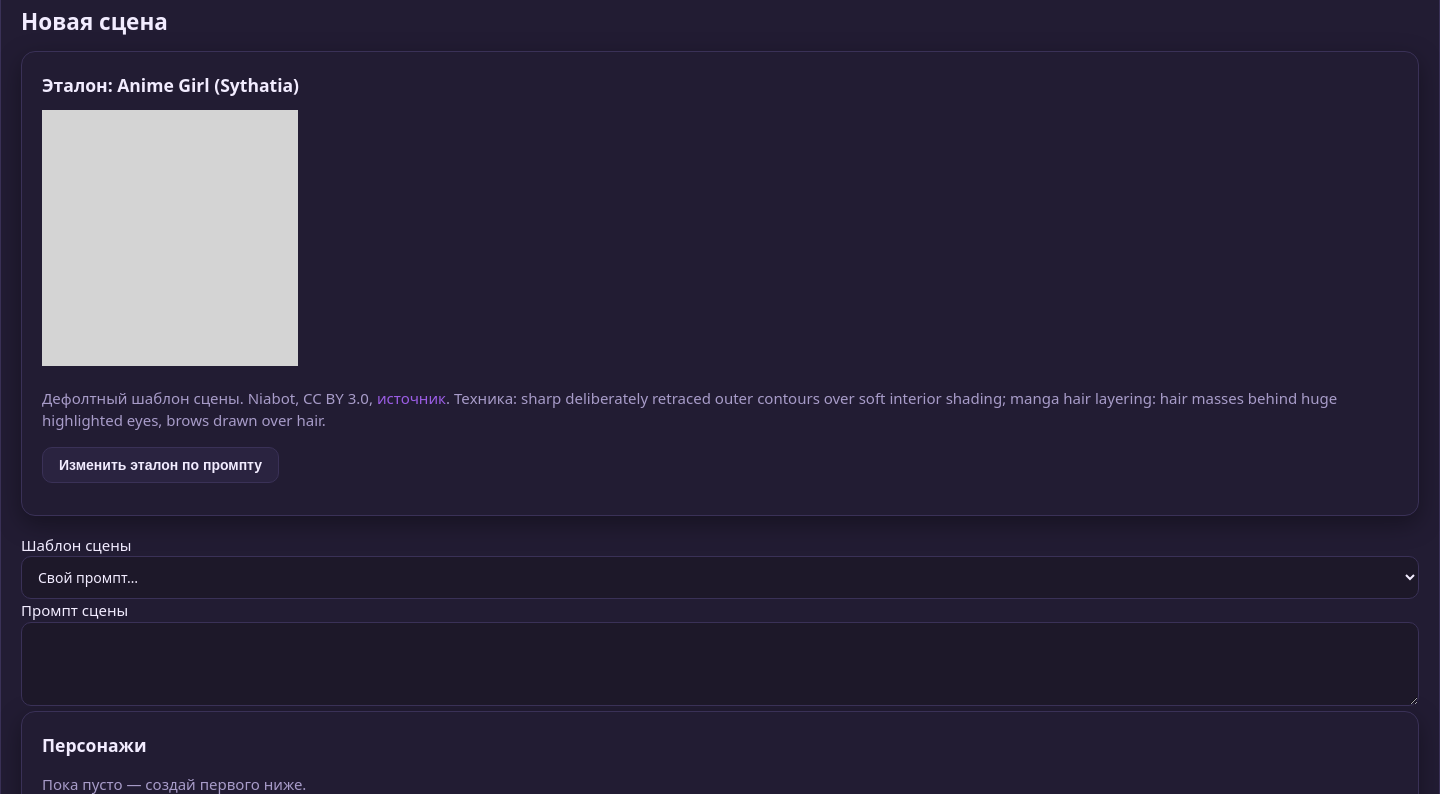
Test: SceneComposer (cast + missing proposals + paused queue) › remix uses the reference look and marks the scene basedOn (default template)
What coordinates should you click on to do the following:
click the button "Изменить эталон по промпту"
I would click on:
 (161, 465)
Its box is [42,447,279,483].
(page scrolled)
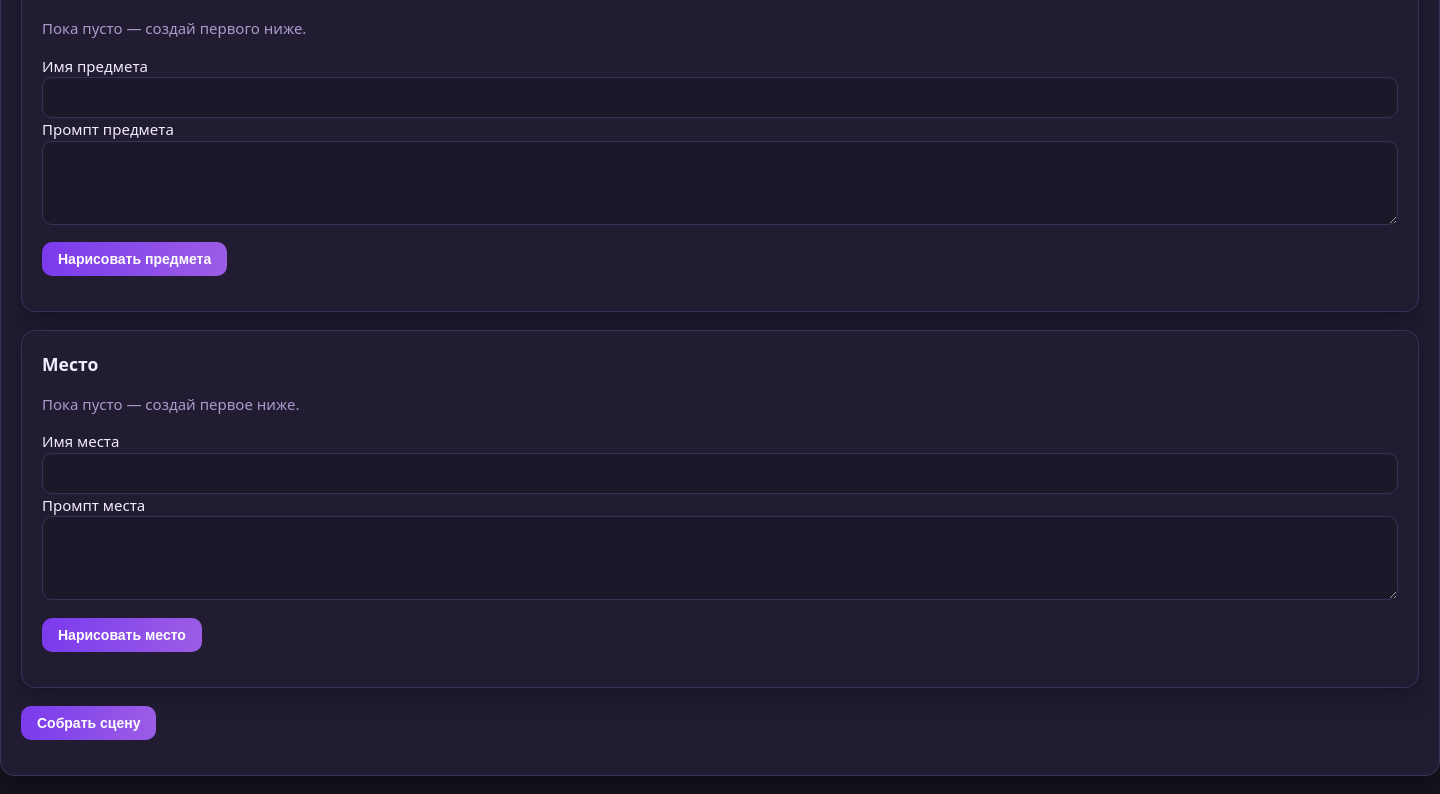
What coordinates should you click on to do the following:
click the button "Собрать сцену"
I would click on:
 (89, 722)
Its box is [21,706,156,740].
(page scrolled)
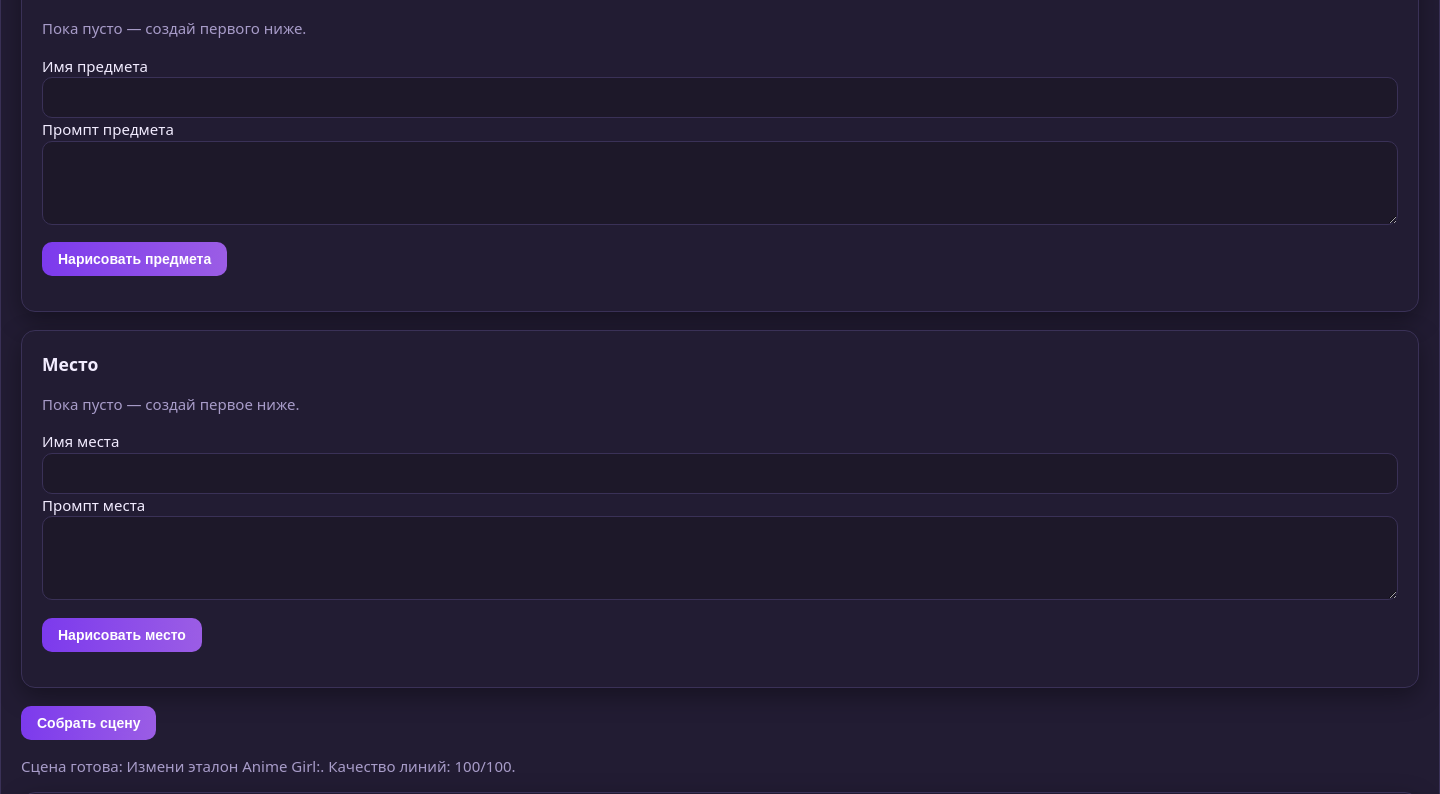
Check: the text "Сцена готова" is shown, box [21,756,516,776]
